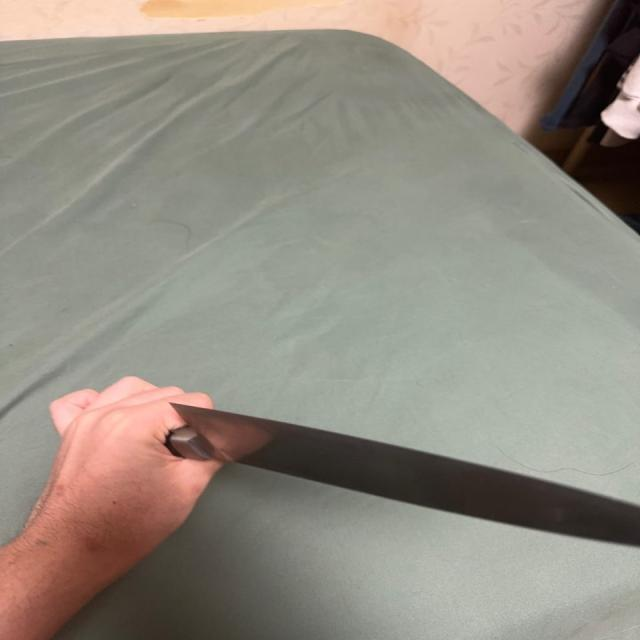knife: (160, 398, 639, 547)
